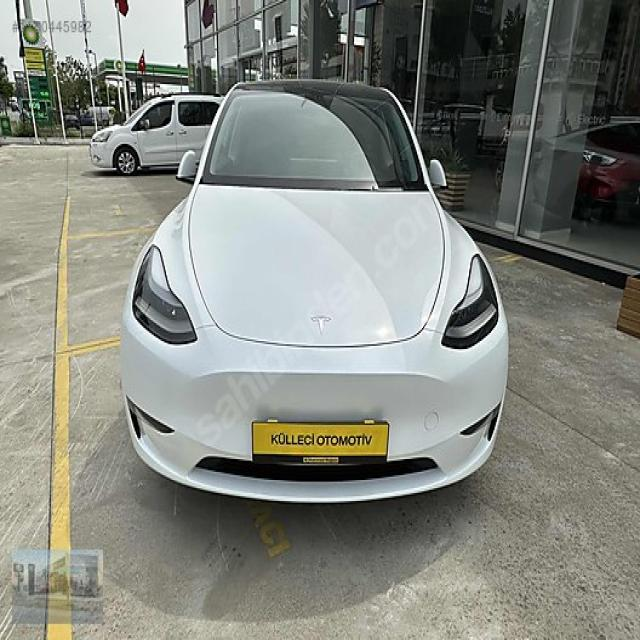tesla: (309, 311, 337, 337)
